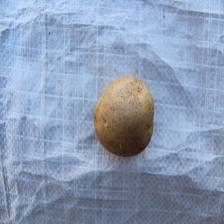Diseased-fungal potato: (92, 74, 156, 158)
